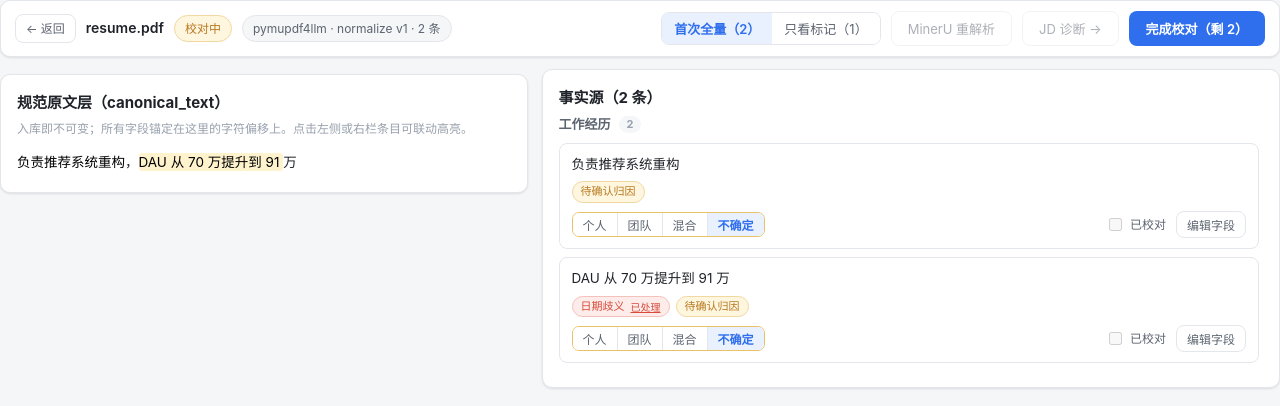
ReviewPage（gate1 校对页） › 只看标记模式仅显示有未处理异象的条目，左栏同步过滤
Check: the element with test id "fact-row-f1" is shown, box [558, 143, 1259, 249]
Click the tab "只看标记（1）".
click(826, 28)  # box [772, 13, 880, 44]
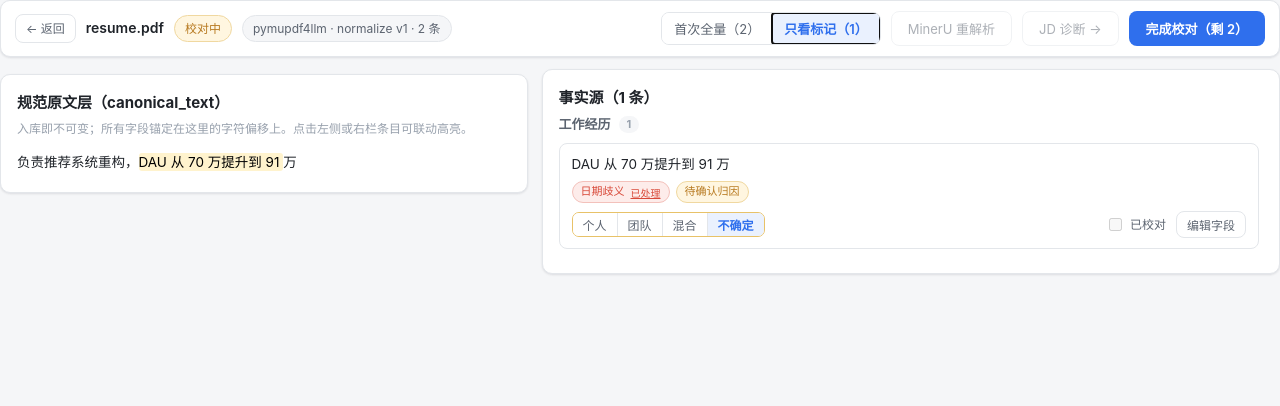
Check: the element with test id "fact-row-f2" is shown, box [558, 143, 1259, 249]
Check: the element with test id "fact-row-f1" is gone
